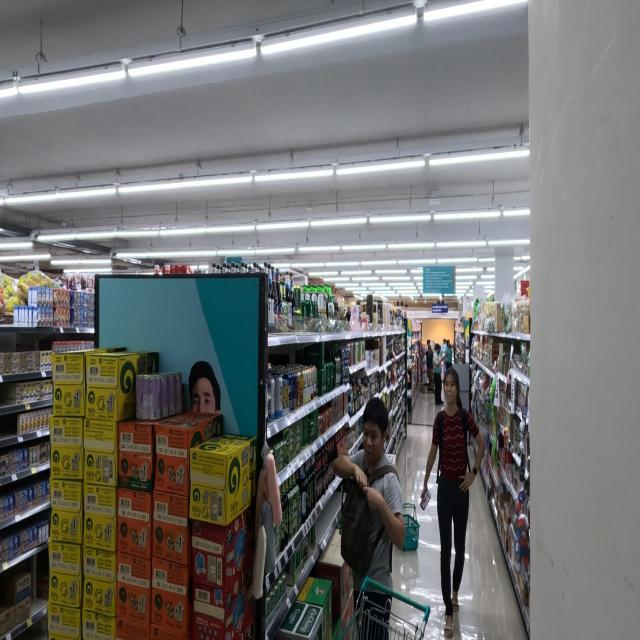shoplifting: (336, 394, 407, 640)
